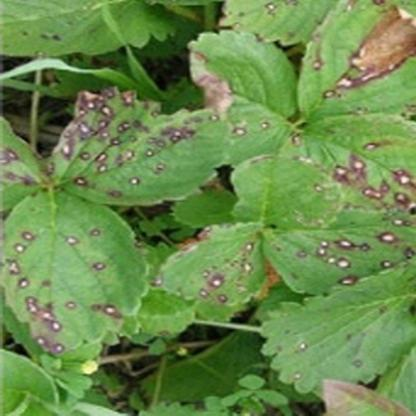Strawberry_Leaf_Spot: (0, 186, 151, 358), (48, 82, 238, 206), (257, 255, 415, 403), (186, 28, 298, 168), (278, 116, 415, 230), (295, 0, 415, 124), (261, 224, 415, 296), (154, 223, 268, 306), (228, 154, 344, 231), (0, 115, 55, 226), (215, 0, 339, 48)
